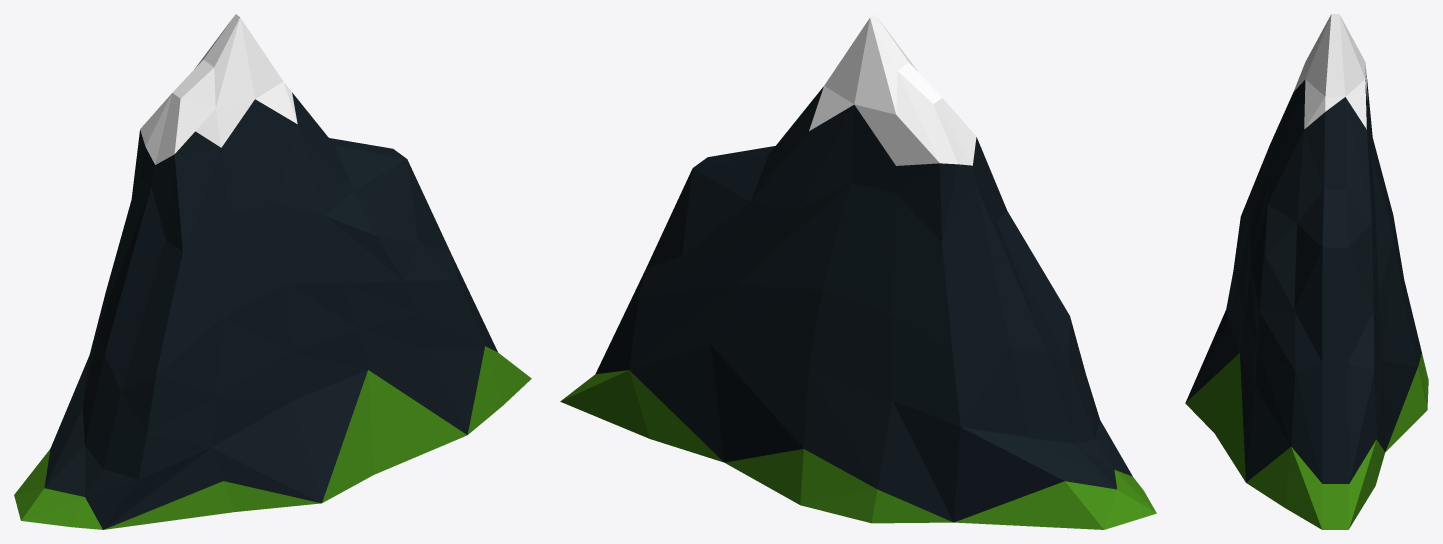
The model's file is mountain.obj.
The picture shows the model from 3 angles, left to right: view 1: azimuth 30°, elevation 25°; view 2: azimuth 150°, elevation 25°; view 3: azimuth 270°, elevation 25°; orthographic projection. The views are drawn at different scales.
Bounding box in the file's own units: 10.86 × 8.39 × 4.76.
